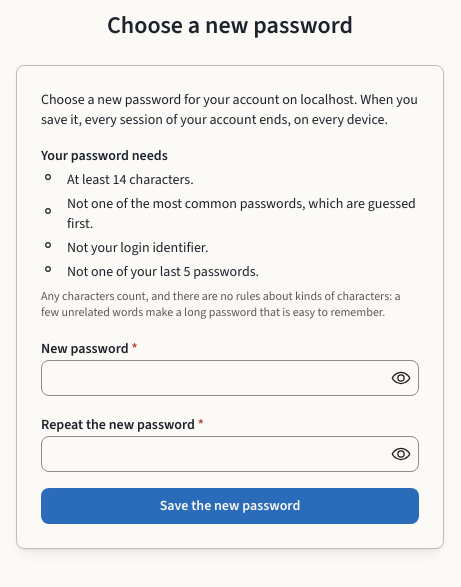
Test: the password forms › say the tenant's policy in words before anyone types, and mark the rule a refusal names [TF-012 AC1, ADR-0046]
The image size is (461, 587).
Expected: the list named "Your password needs" shows "At least 14 characters.", [67,170,194,189]
Expected: the list named "Your password needs" shows "Not one of the most common passwords", [67,194,416,233]
Click the password field labelled "New password *".
click(230, 378)  # box [42,361,418,395]
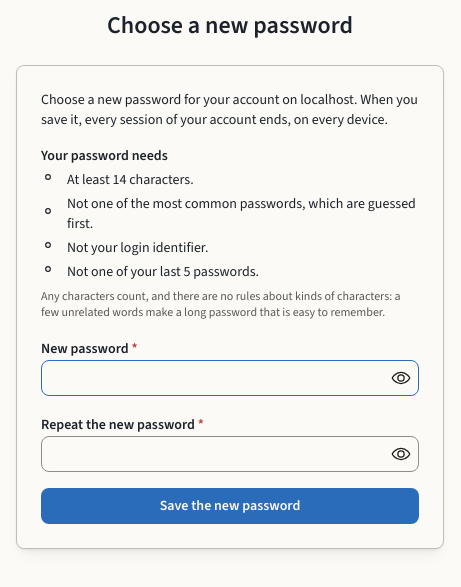
Type keys "qwertyuiop1234"
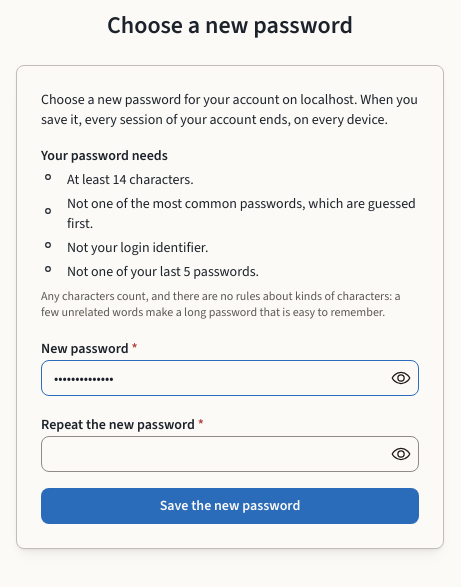
Click the password field labelled "Repeat the new password *".
click(230, 454)  # box [42,437,418,471]
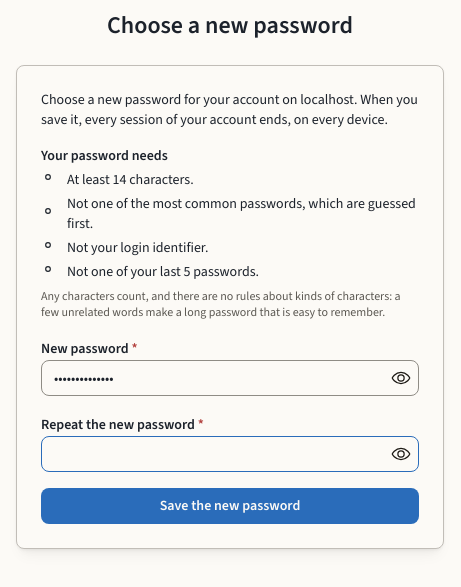
Type keys "qwertyuiop1234"
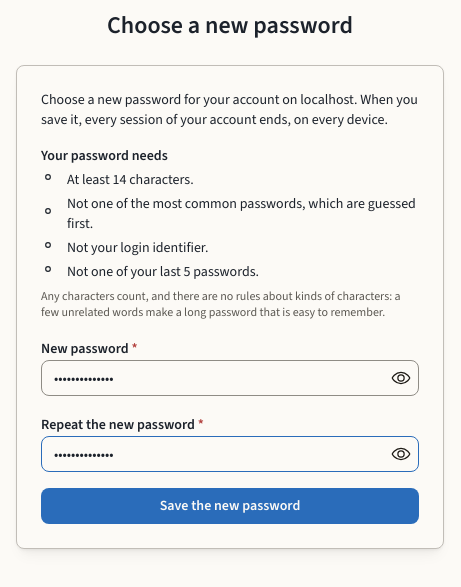
Click the button "Save the new password".
click(230, 506)  # box [41,488,419,524]
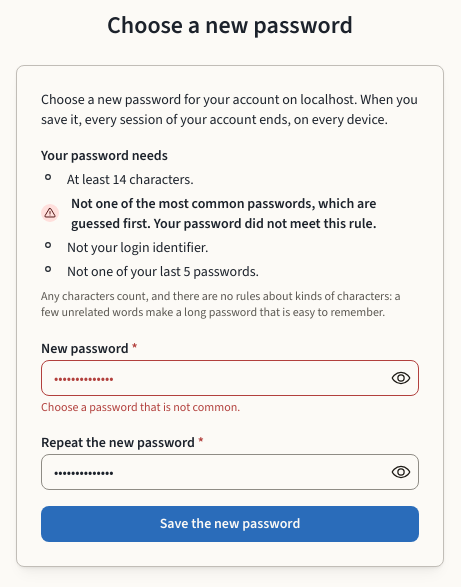
Expected: the 2nd list item is shown, [41,194,419,234]
Expected: the 2nd list item shows "Your password did not meet this rule.", [154,214,377,233]
Expected: the text "Choose a password that is not common." is shown, [41,399,240,415]
